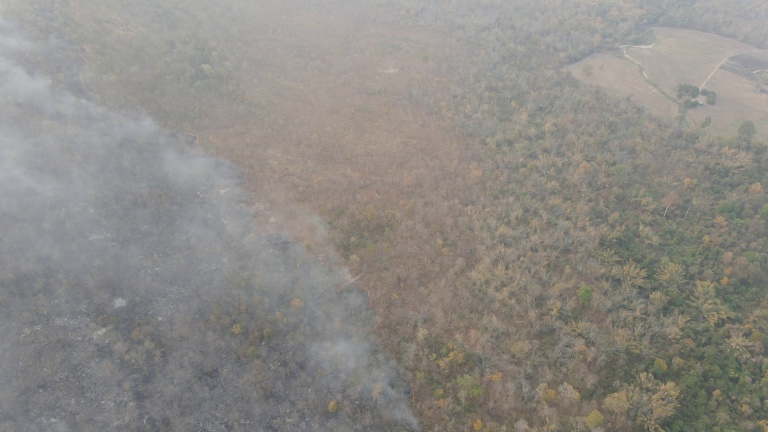smoke: (1, 36, 421, 428)
